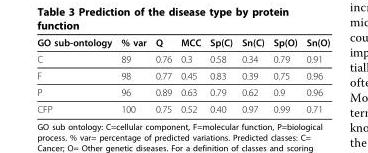table: (36, 36, 329, 114)
table column: (36, 36, 115, 114), (115, 36, 150, 114), (268, 36, 301, 114), (204, 36, 236, 114), (236, 36, 268, 114), (175, 36, 204, 114), (301, 36, 329, 114), (150, 36, 175, 114)
table column header: (36, 36, 329, 50)
table row: (36, 50, 329, 67), (36, 83, 329, 100), (36, 67, 329, 83), (36, 36, 329, 50), (36, 100, 329, 114)
